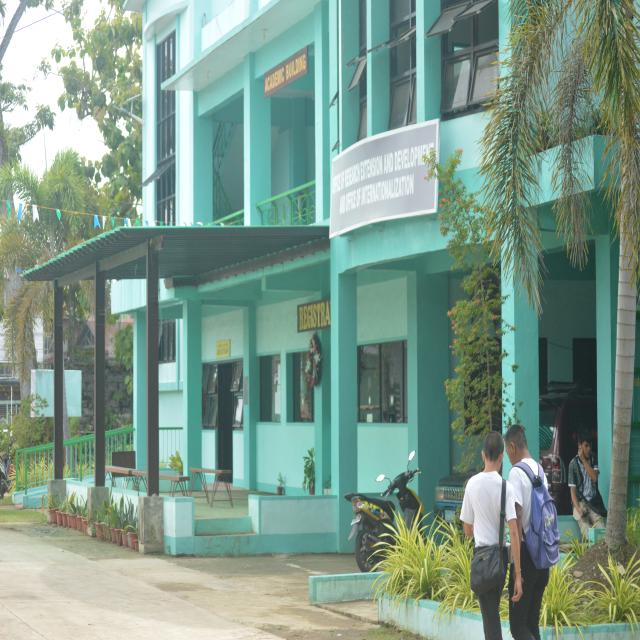person: (509, 467, 549, 639), (460, 431, 504, 550), (569, 430, 606, 540)
